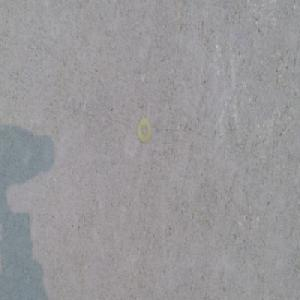Washer: (137, 118, 152, 145)
